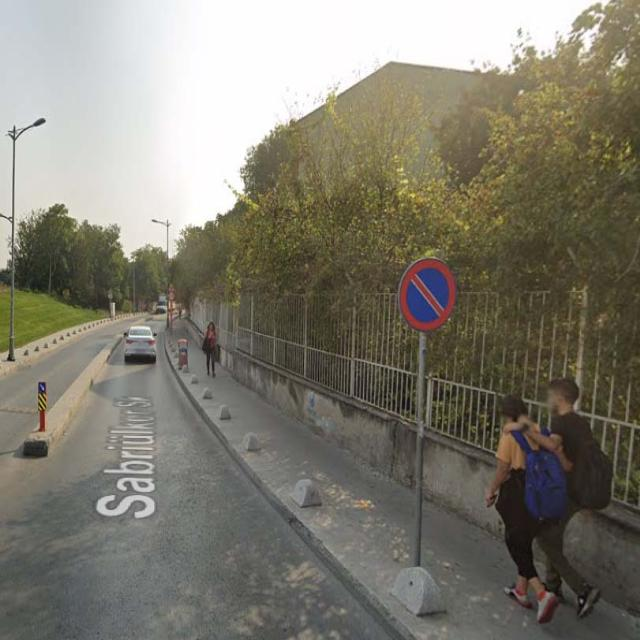parkyasak: (399, 259, 456, 333)
